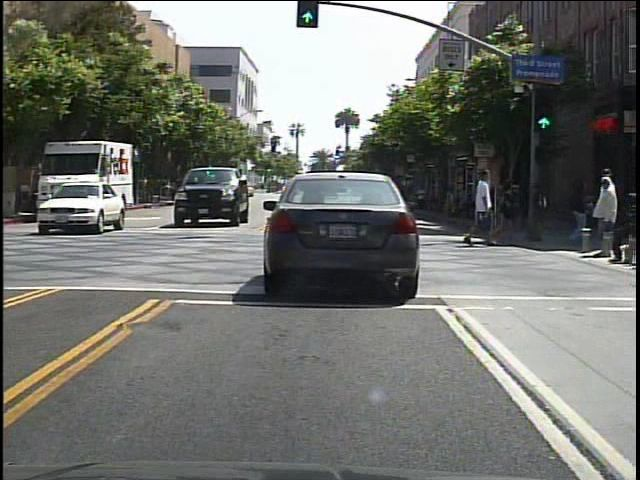person: (466, 164, 503, 250), (596, 167, 622, 261), (564, 175, 592, 246), (530, 175, 552, 242), (413, 182, 431, 215)
